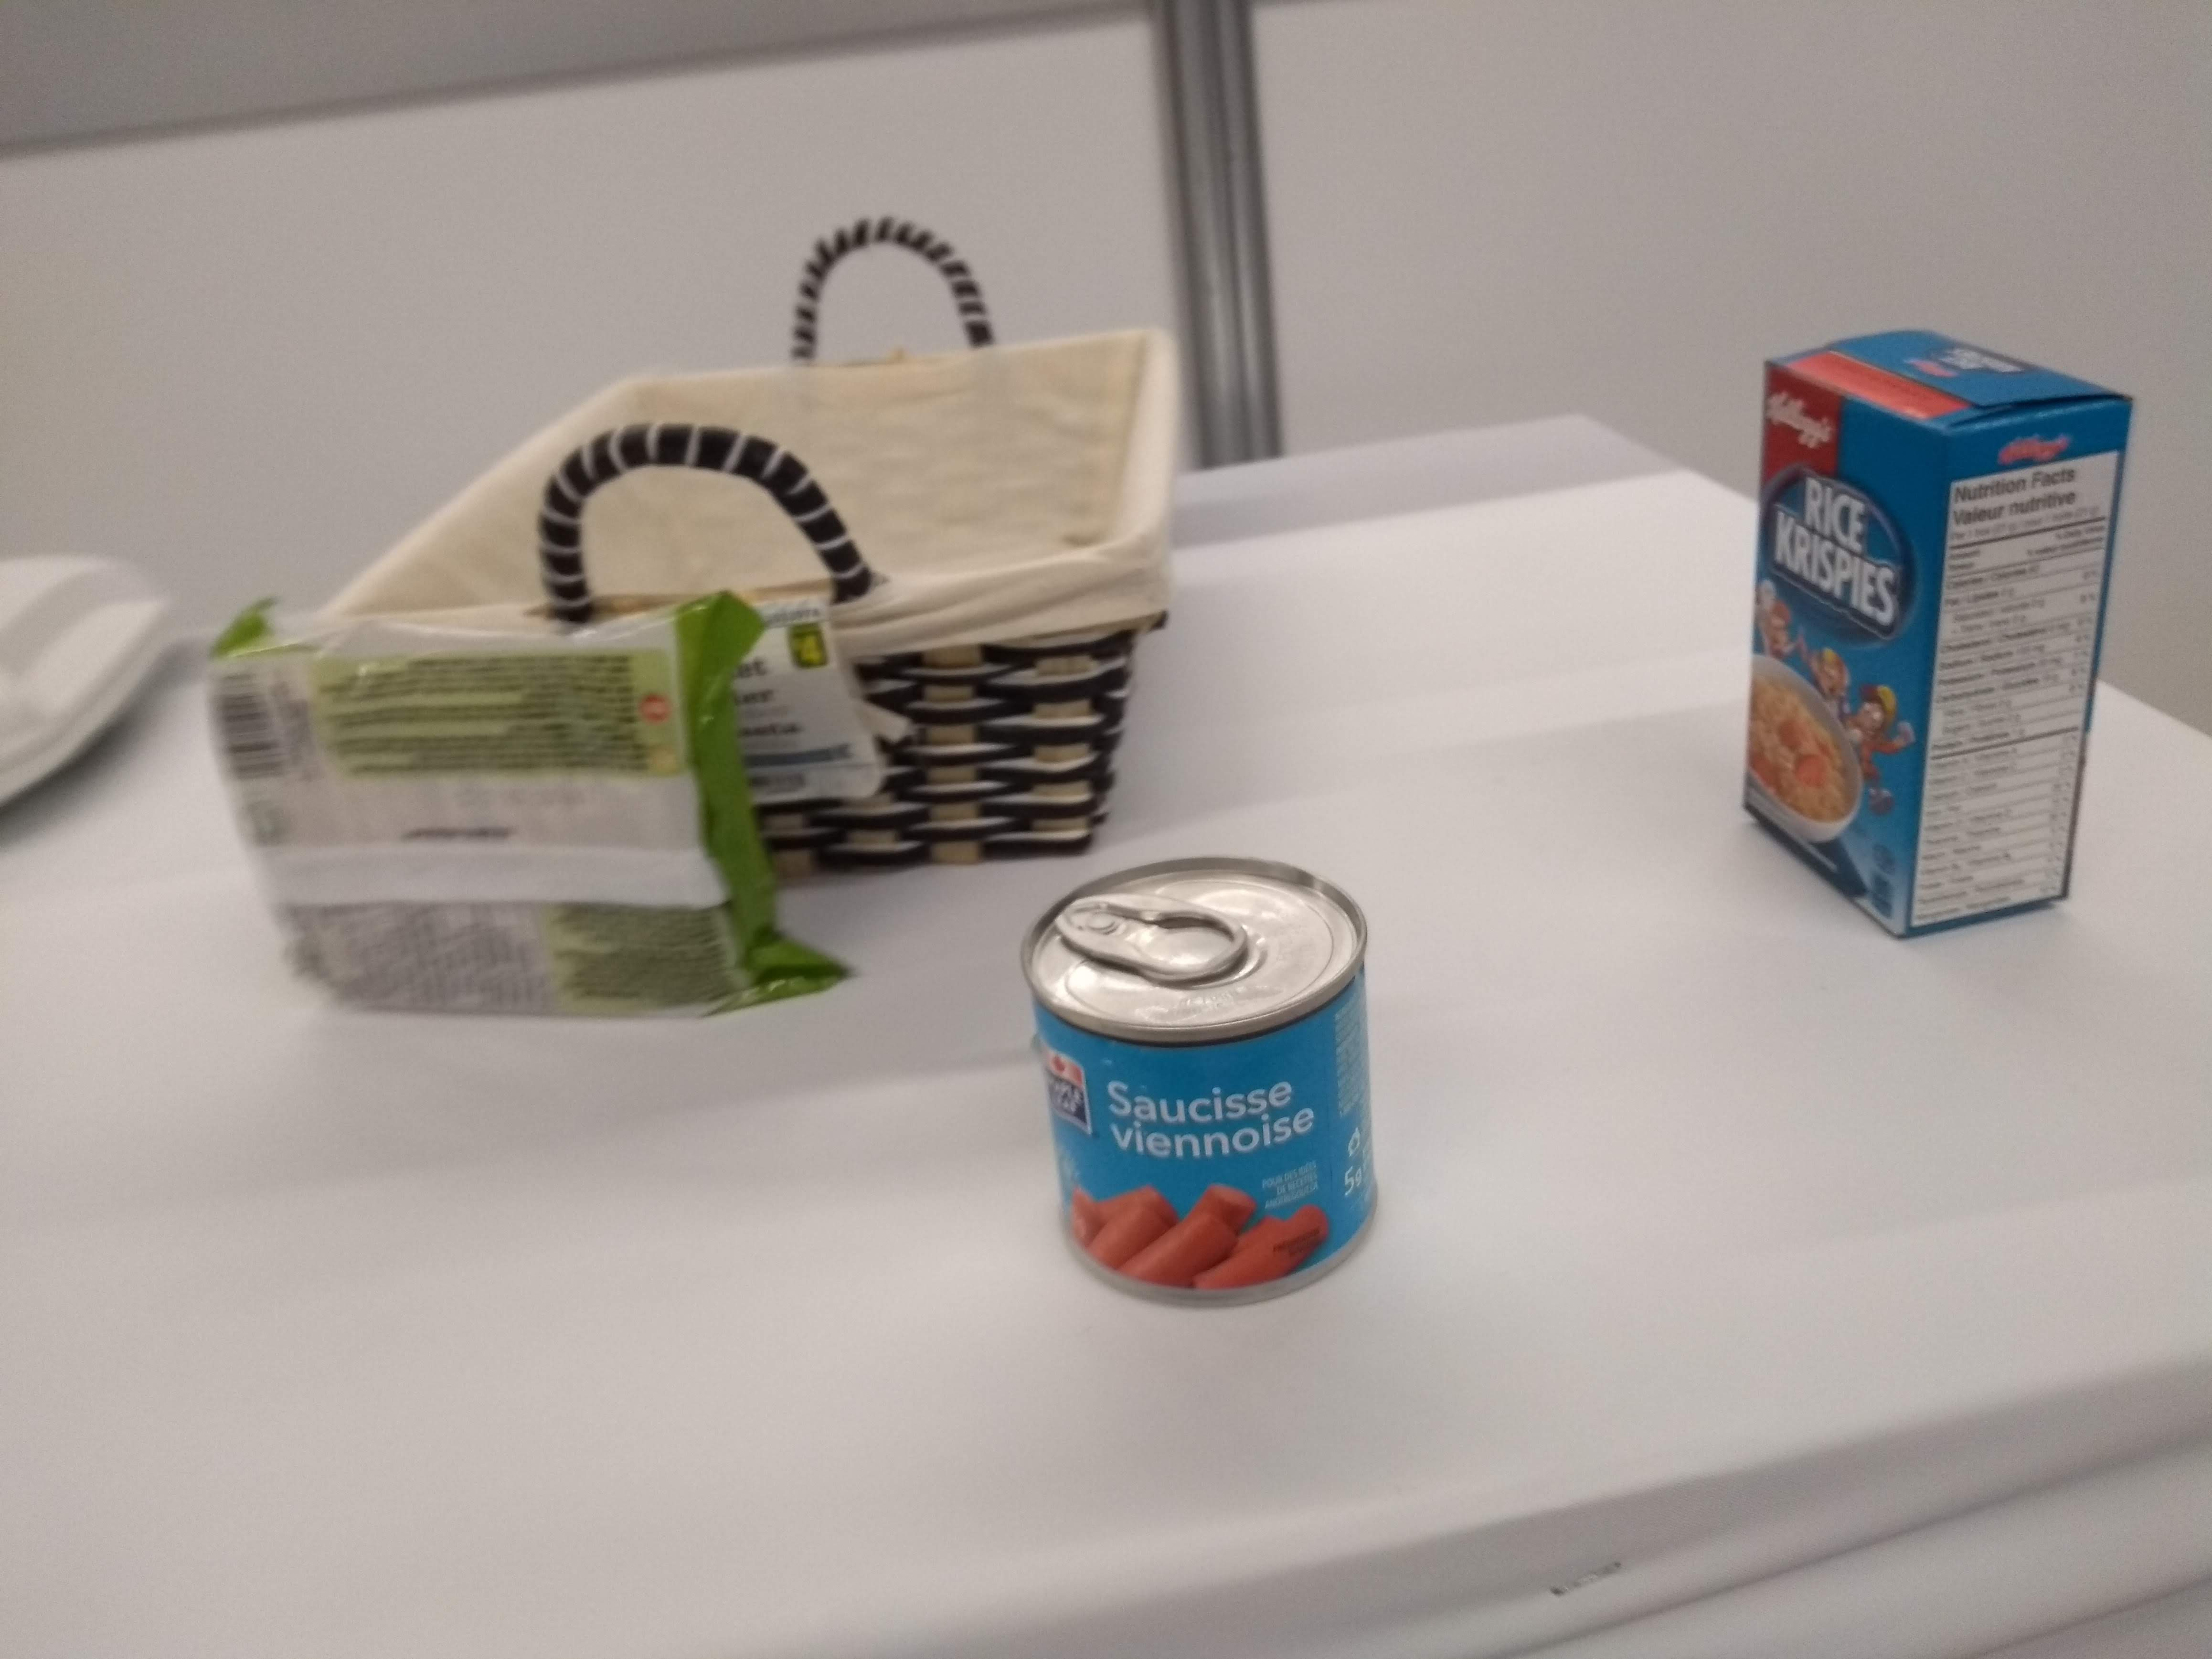cereal: (1721, 314, 2148, 950)
noodles: (193, 592, 867, 1049)
sausages: (1010, 847, 1390, 1319)
